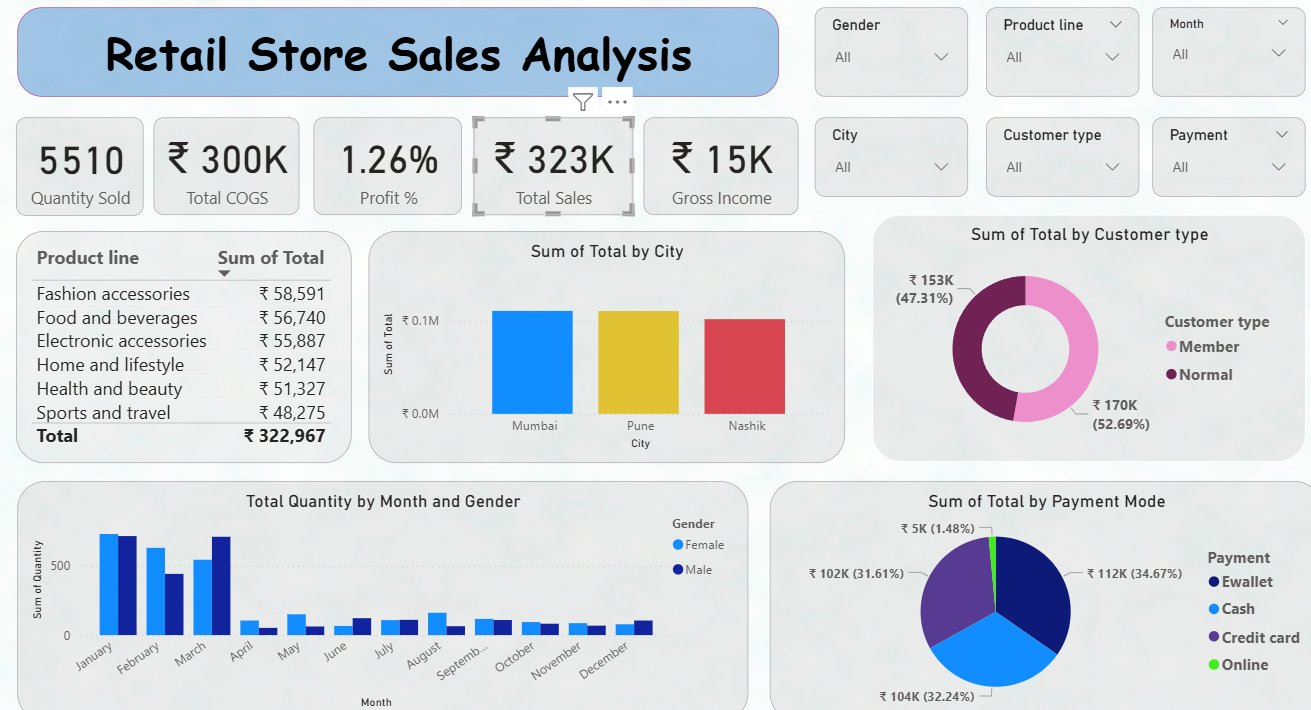

The page's visual inventory and layout, read from the dashboard file:
{"tool":"powerbi","page":{"name":"Page 1","canvas":[1280,720],"ordinal":0},"visuals":[{"type":"textbox","title":"he","box":[20.6,20.6,735.5,86.4],"z":0},{"type":"slicer","fields":{"Values":["final_sales_data.City"]},"box":[790.4,126.2,148.2,76.8],"z":1000},{"type":"slicer","fields":{"Values":["final_sales_data.Product line"]},"box":[955.1,20.6,148.2,86.4],"z":2000},{"type":"slicer","fields":{"Values":["final_sales_data.Gender"]},"box":[790.4,20.6,148.2,86.4],"z":3000},{"type":"slicer","fields":{"Values":["final_sales_data.Customer type"]},"box":[955.1,126.2,148.2,76.8],"z":4000},{"type":"slicer","fields":{"Values":["final_sales_data.Date.Variation.Date Hierarchy.Month"]},"box":[1115.6,20.6,148.2,86.4],"z":5000},{"type":"card","fields":{"Values":["Sum(final_sales_data.cogs (cost of good sold))"]},"box":[152,126.6,141.1,94.1],"z":6000},{"type":"card","fields":{"Values":["final_sales_data.Profit %"]},"box":[306.3,126.6,143.5,94.1],"z":7000},{"type":"card","fields":{"Values":["Sum(final_sales_data.Total)"]},"box":[461.1,126.2,153.7,94.7],"z":8000},{"type":"card","fields":{"Values":["Sum(final_sales_data.gross income)"]},"box":[624.4,126.2,149.6,94.7],"z":9000},{"type":"tableEx","title":"Units Sold by Product line","fields":{"Values":["final_sales_data.Product line","Sum(final_sales_data.Total)"]},"box":[19.2,236,323.8,223.7],"z":10000},{"type":"clusteredColumnChart","title":"Total Quantity by Month and Gender","fields":{"Category":["final_sales_data.Date.Variation.Date Hierarchy.Month"],"Y":["Sum(final_sales_data.Quantity)"],"Series":["final_sales_data.Gender"]},"box":[20.6,477.5,705.3,231.9],"z":11000},{"type":"pieChart","title":"Sum of Total by Payment Mode","fields":{"Category":["final_sales_data.Payment"],"Y":["Sum(final_sales_data.Total)"]},"box":[746.5,477.5,533.8,231.9],"z":12000},{"type":"slicer","fields":{"Values":["final_sales_data.Payment"]},"box":[1115.6,126.2,148.2,76.8],"z":13000},{"type":"card","fields":{"Values":["Sum(final_sales_data.Quantity)"]},"box":[19.3,126.6,123,95.3],"z":14000},{"type":"columnChart","fields":{"Category":["final_sales_data.City"],"Y":["Sum(final_sales_data.Total)"]},"box":[359.5,236,459.7,223.7],"z":15000},{"type":"donutChart","fields":{"Category":["final_sales_data.Customer type"],"Y":["Sum(final_sales_data.Total)"]},"box":[845.3,220.9,418.5,238.8],"z":16000}]}

Visuals, with their boxes on the page's 1280x720 design canvas (x1, y1, x2, y2). These are canvas units, not pixel positions in the 1311x710 screenshot, which may show the page scaled, cropped or inside an application window:
"he" textbox: bbox=[21, 21, 756, 107]
slicer - final_sales_data.City: bbox=[790, 126, 939, 203]
slicer - final_sales_data.Product line: bbox=[955, 21, 1103, 107]
slicer - final_sales_data.Gender: bbox=[790, 21, 939, 107]
slicer - final_sales_data.Customer type: bbox=[955, 126, 1103, 203]
slicer - final_sales_data.Date.Variation.Date Hierarchy.Month: bbox=[1116, 21, 1264, 107]
card - Sum(final_sales_data.cogs (cost of good sold)): bbox=[152, 127, 293, 221]
card - final_sales_data.Profit %: bbox=[306, 127, 450, 221]
card - Sum(final_sales_data.Total): bbox=[461, 126, 615, 221]
card - Sum(final_sales_data.gross income): bbox=[624, 126, 774, 221]
"Units Sold by Product line" tableEx: bbox=[19, 236, 343, 460]
"Total Quantity by Month and Gender" clusteredColumnChart: bbox=[21, 478, 726, 709]
"Sum of Total by Payment Mode" pieChart: bbox=[746, 478, 1280, 709]
slicer - final_sales_data.Payment: bbox=[1116, 126, 1264, 203]
card - Sum(final_sales_data.Quantity): bbox=[19, 127, 142, 222]
columnChart - final_sales_data.City x Sum(final_sales_data.Total): bbox=[360, 236, 819, 460]
donutChart - final_sales_data.Customer type x Sum(final_sales_data.Total): bbox=[845, 221, 1264, 460]
